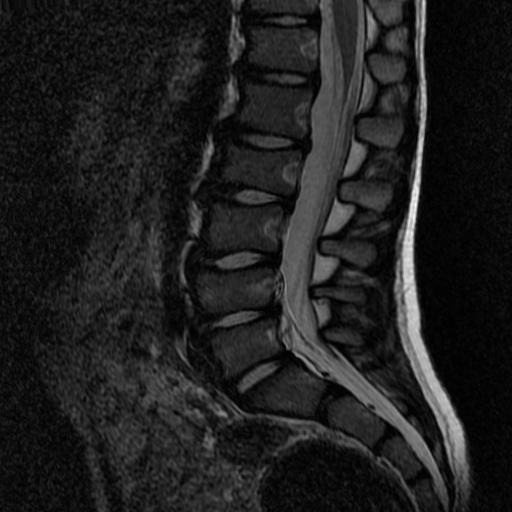D1: (217, 117, 312, 156)
